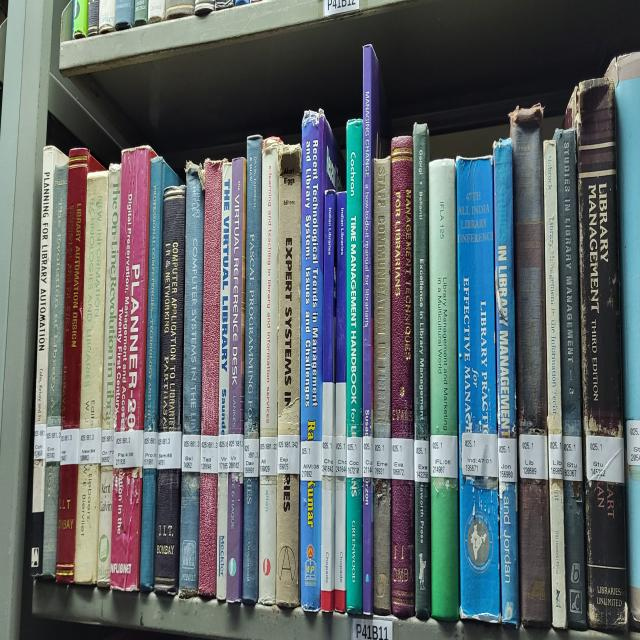Book: (569, 78, 628, 630), (510, 106, 551, 628), (456, 157, 500, 622), (56, 149, 102, 584), (110, 146, 154, 590), (300, 111, 336, 611), (140, 157, 180, 590), (555, 127, 588, 628), (75, 170, 109, 584), (429, 160, 459, 620), (32, 146, 68, 514), (154, 187, 186, 595), (362, 43, 384, 614), (494, 138, 519, 625), (276, 143, 301, 606), (391, 135, 415, 617), (179, 162, 204, 598), (42, 165, 68, 579), (544, 141, 566, 628), (98, 165, 121, 587), (412, 122, 431, 620), (242, 135, 262, 606), (259, 138, 279, 603), (226, 157, 246, 603), (372, 157, 391, 614), (346, 119, 362, 614), (320, 189, 336, 611), (216, 160, 231, 601), (201, 160, 222, 436), (202, 162, 221, 427), (335, 192, 346, 611), (199, 471, 218, 598), (330, 525, 332, 528)
Label: (586, 436, 624, 482), (461, 433, 498, 479), (519, 433, 549, 479), (430, 436, 458, 479), (114, 430, 144, 468), (391, 438, 414, 482), (158, 430, 181, 471), (562, 436, 582, 482), (498, 438, 518, 482), (300, 441, 321, 482), (79, 427, 101, 465), (278, 436, 300, 473), (181, 433, 201, 473), (259, 436, 278, 476), (60, 427, 79, 465), (200, 436, 219, 473), (374, 438, 391, 479), (346, 436, 362, 479), (414, 438, 429, 482), (228, 433, 244, 473), (45, 425, 61, 463), (142, 430, 158, 468), (549, 433, 562, 479), (244, 438, 259, 476), (322, 436, 335, 476), (362, 436, 374, 479), (101, 427, 114, 465), (335, 436, 346, 476), (34, 425, 46, 460), (218, 436, 229, 473), (144, 446, 146, 455)
